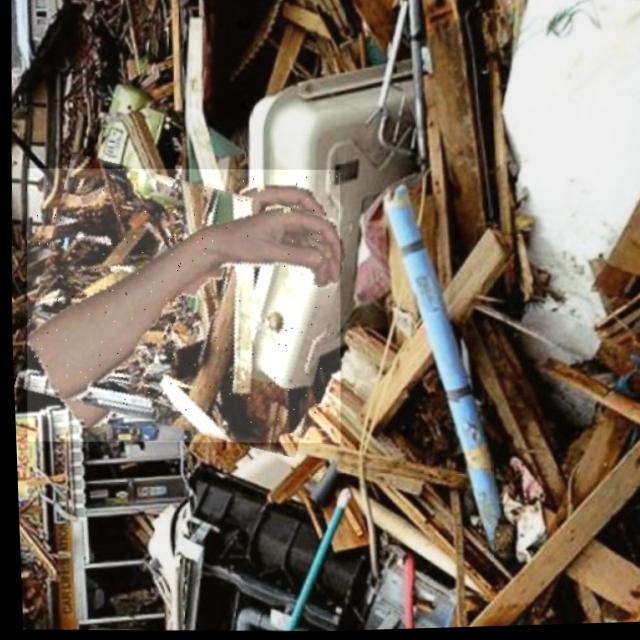Person in Rubble: (16, 160, 346, 451)
